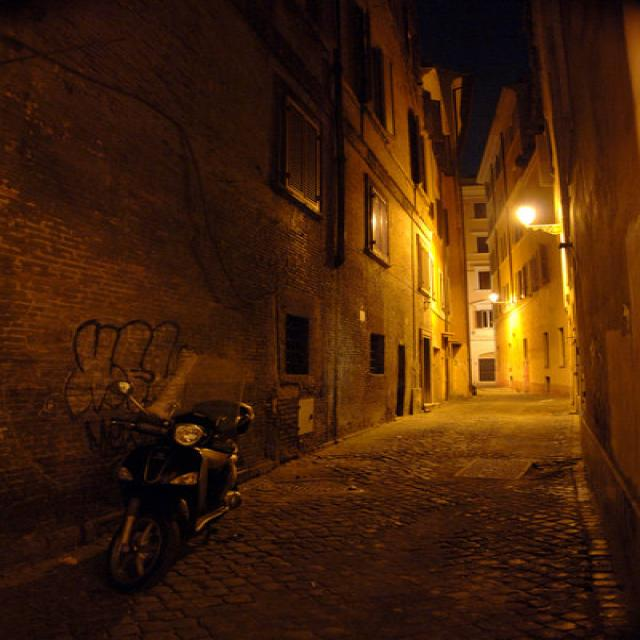Motorbike: (71, 370, 284, 613)
